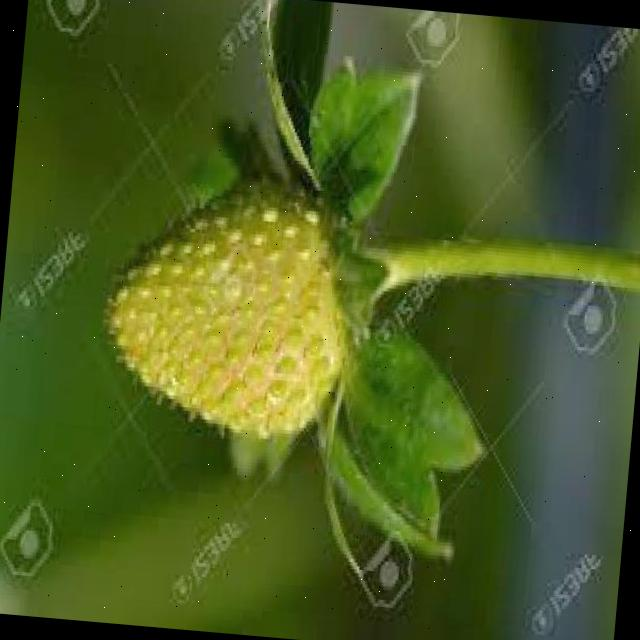strawberry: (96, 178, 356, 438)
